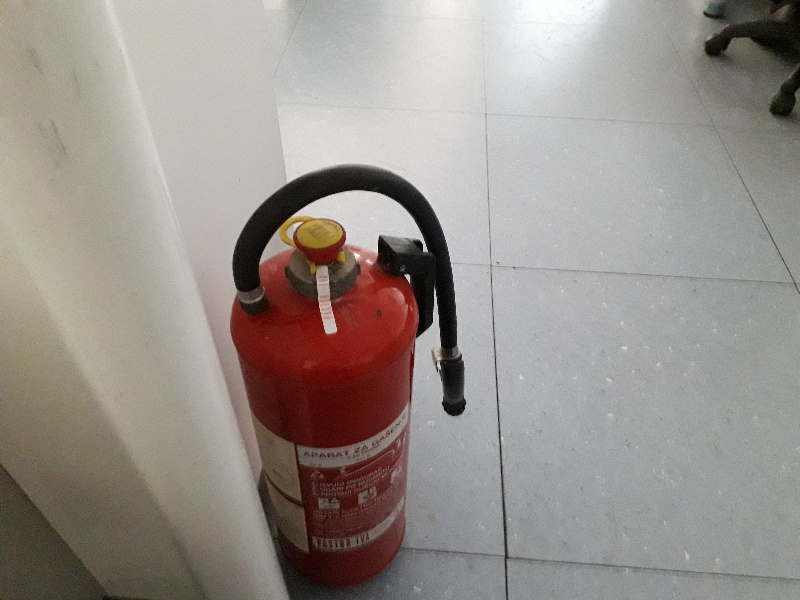vataparat: (233, 167, 467, 585)
